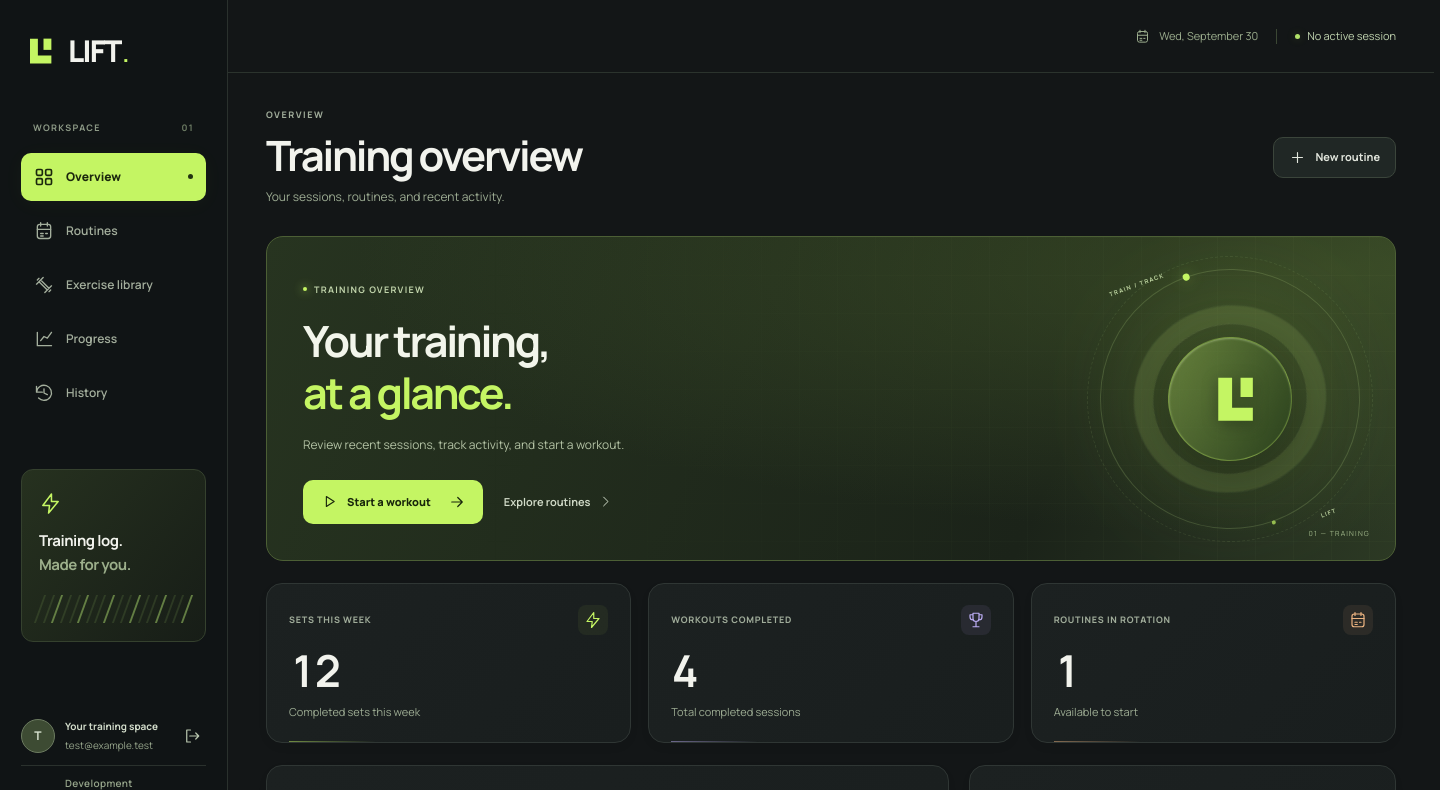
Test: Training studio › keeps save errors inside the dialog and handles native cancellation
Expected: the heading "Training overview" is shown, [266, 131, 582, 179]
Click the button "Exercise library" at (114,284), box [21, 260, 206, 308]
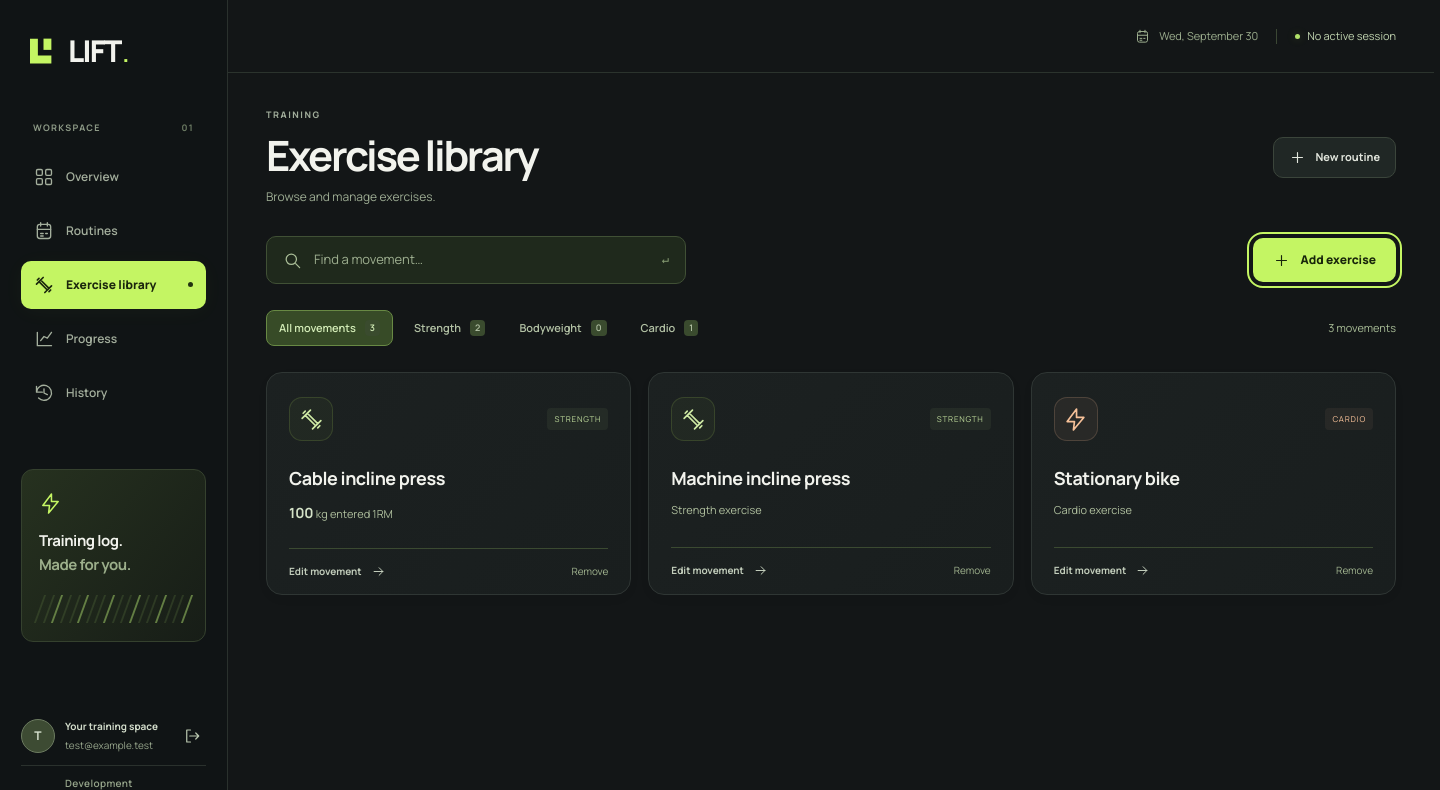
Click the button "Add exercise" at (1325,260), box [1254, 238, 1396, 282]
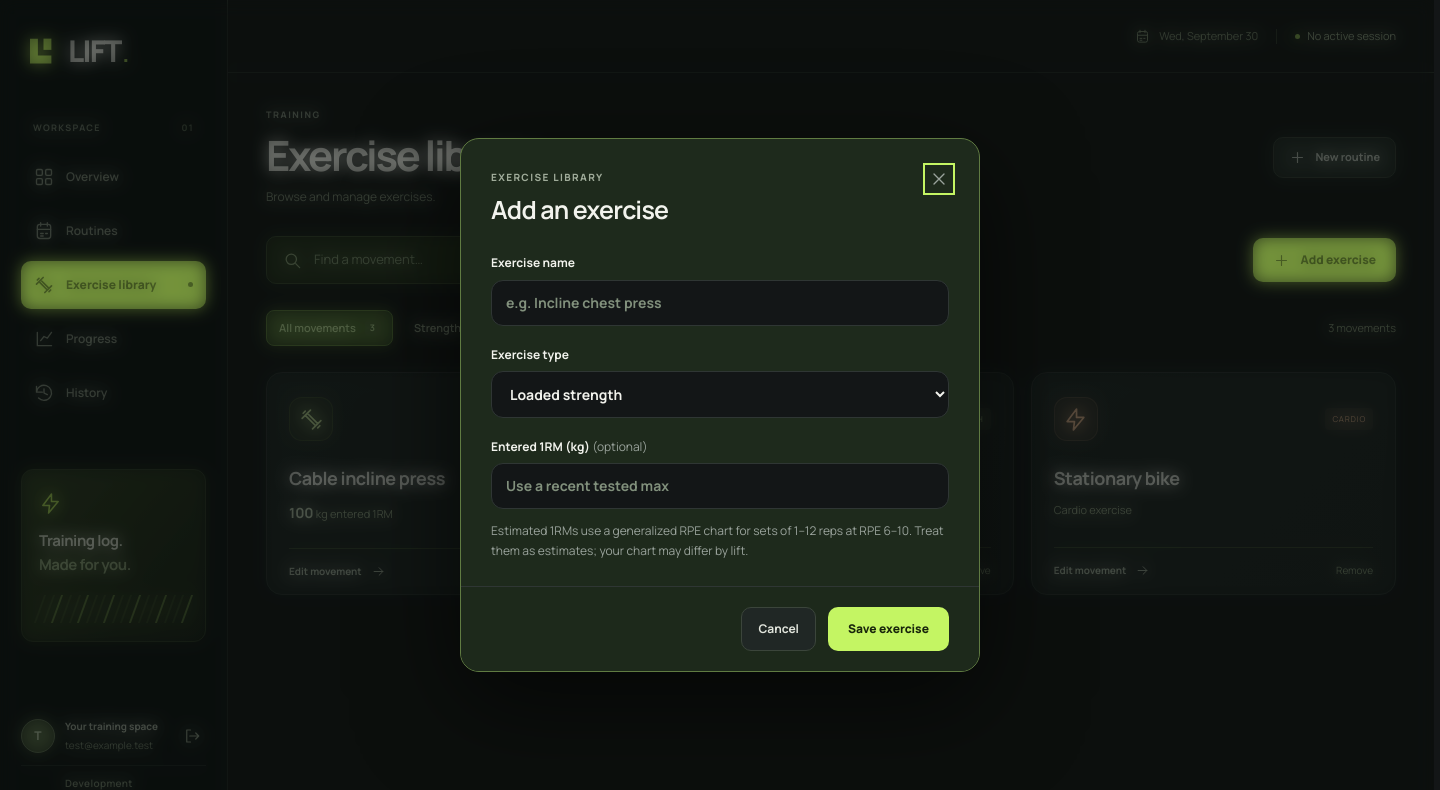
Type "Cable incline press" into the field labelled "Exercise name" at (720,303), box [491, 280, 949, 326]
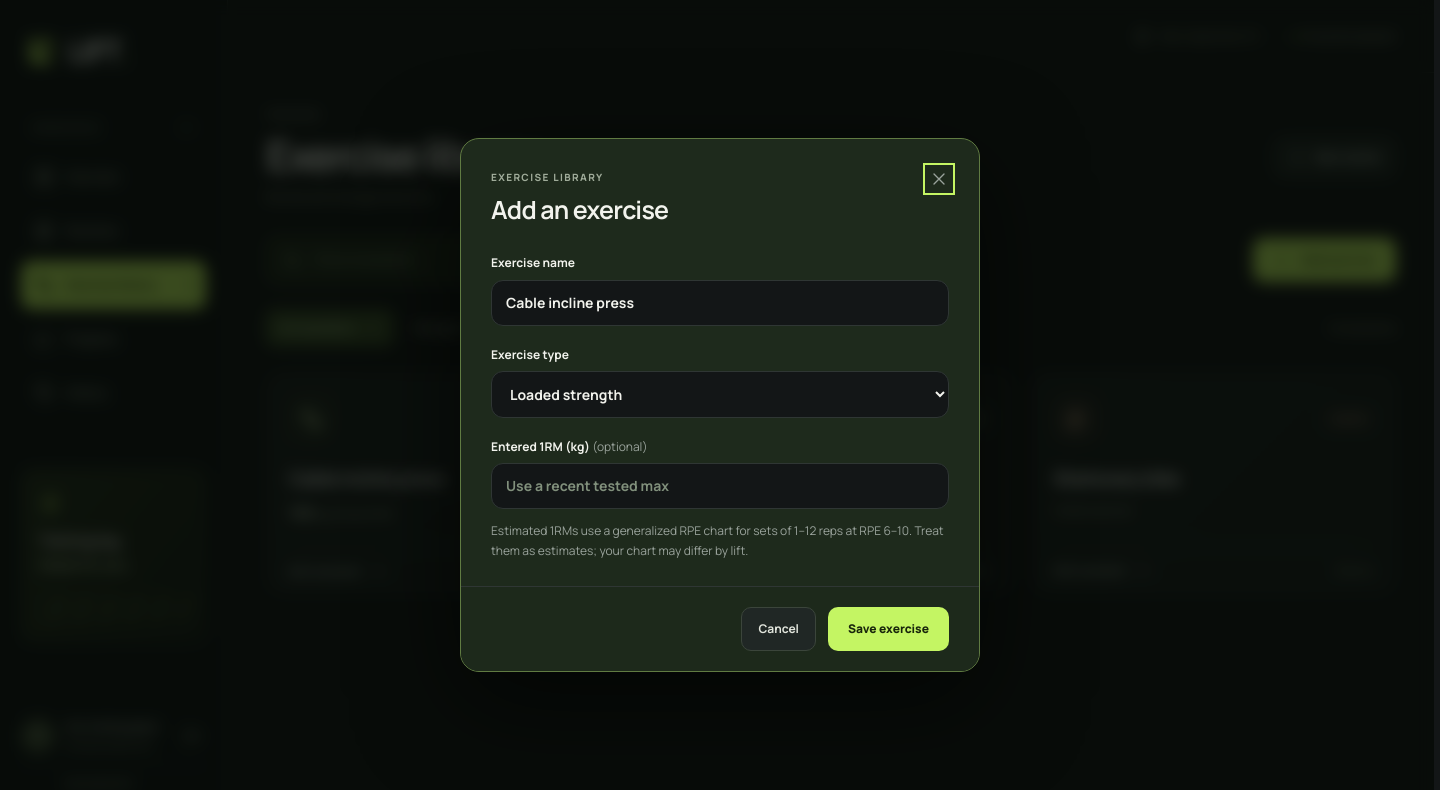
Click the button "Save exercise" at (888,629), box [828, 607, 949, 651]
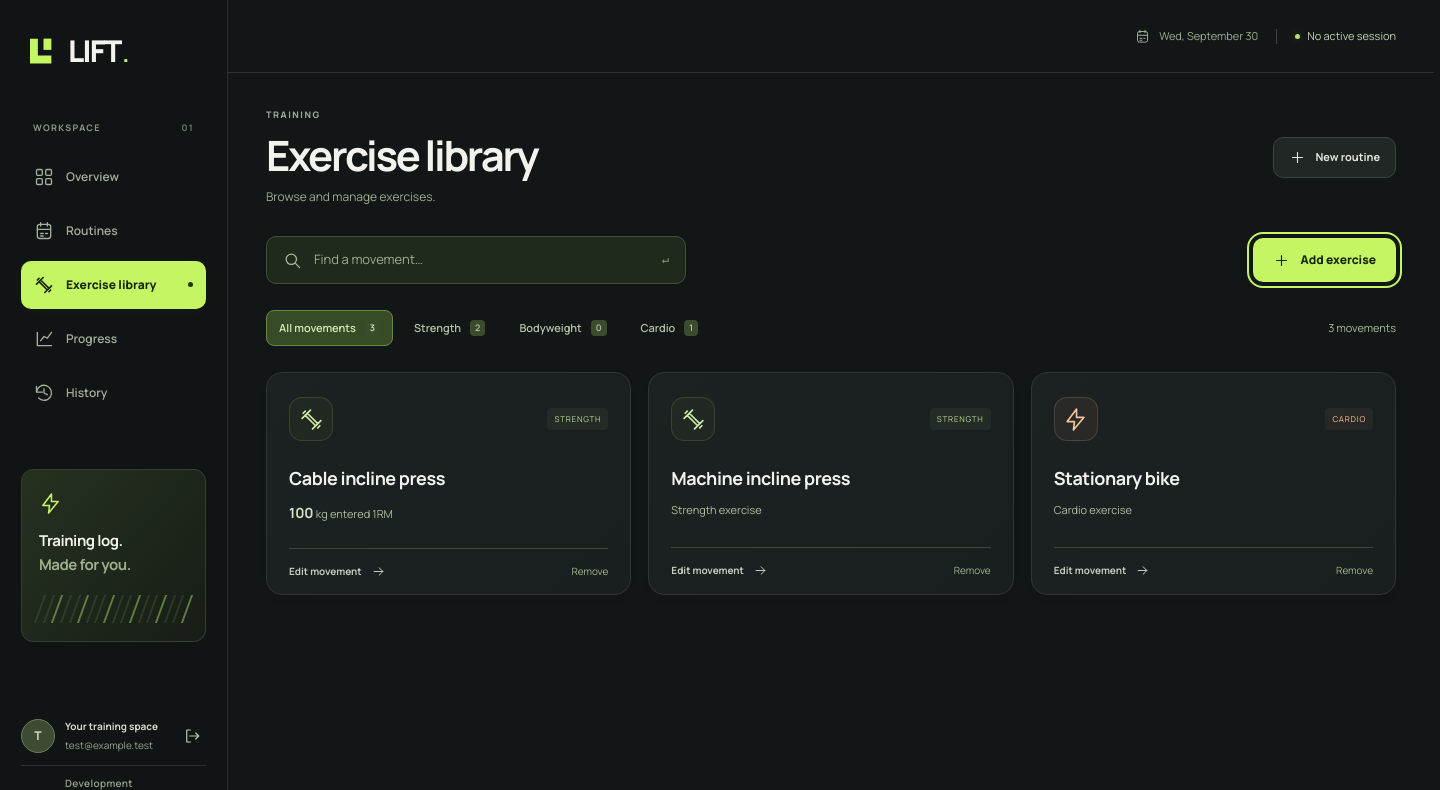
Expected: the dialog is gone
